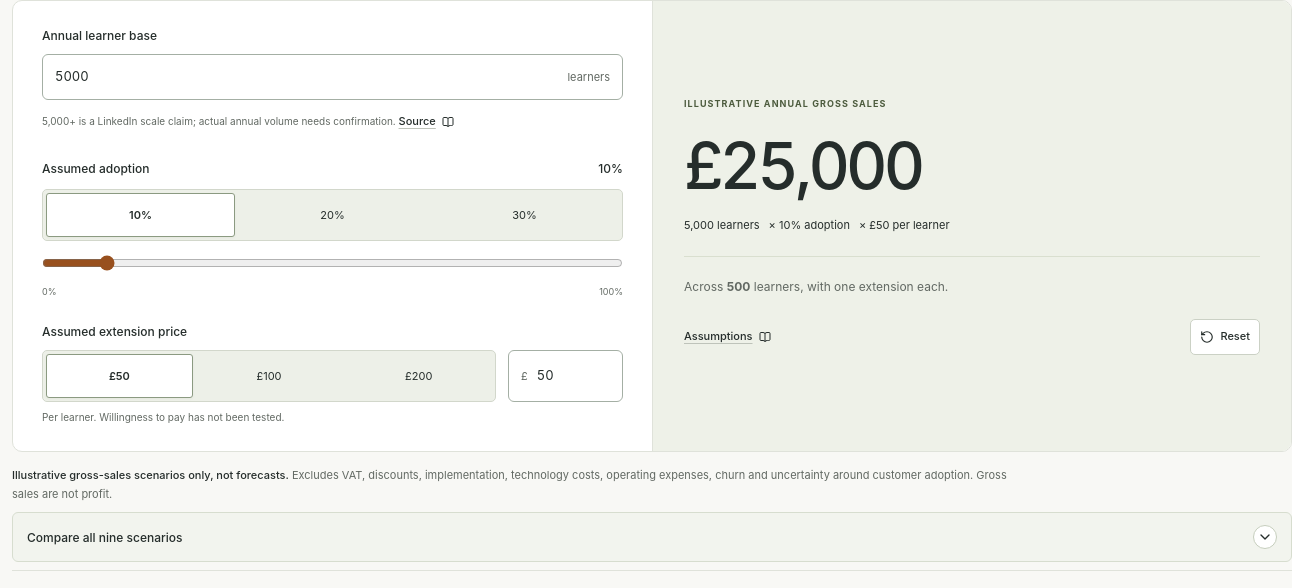
Test: validates custom annual inputs without showing stale results
Click the button "20%": (332, 215) [238,193,427,237]
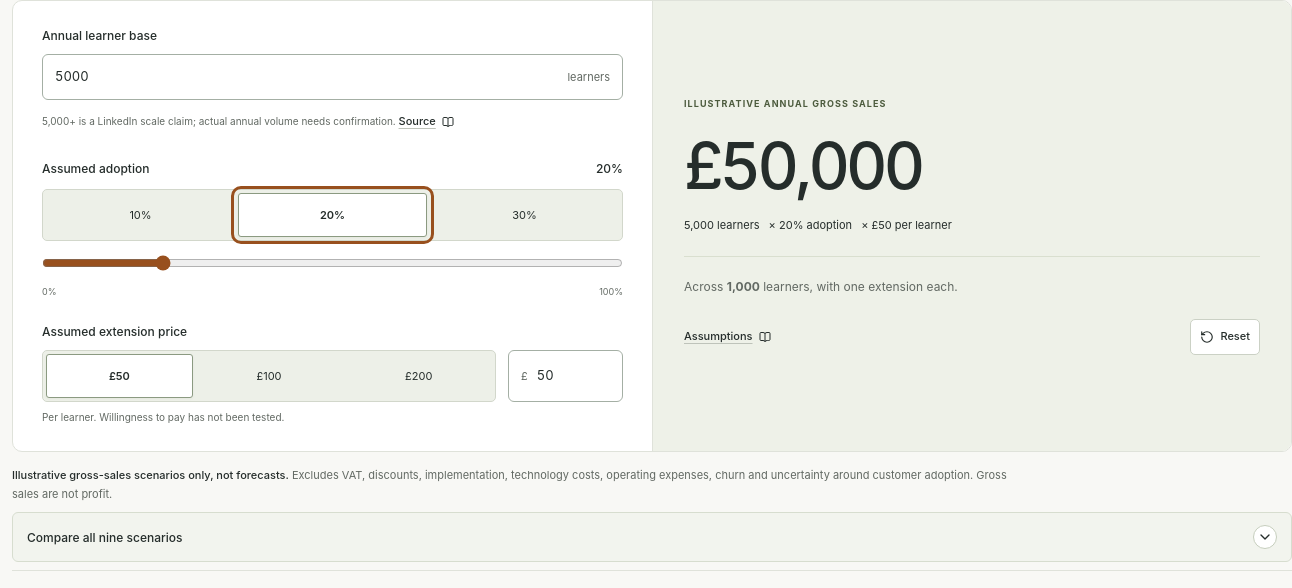
Click the button "£100": (269, 376) [196,354,342,398]
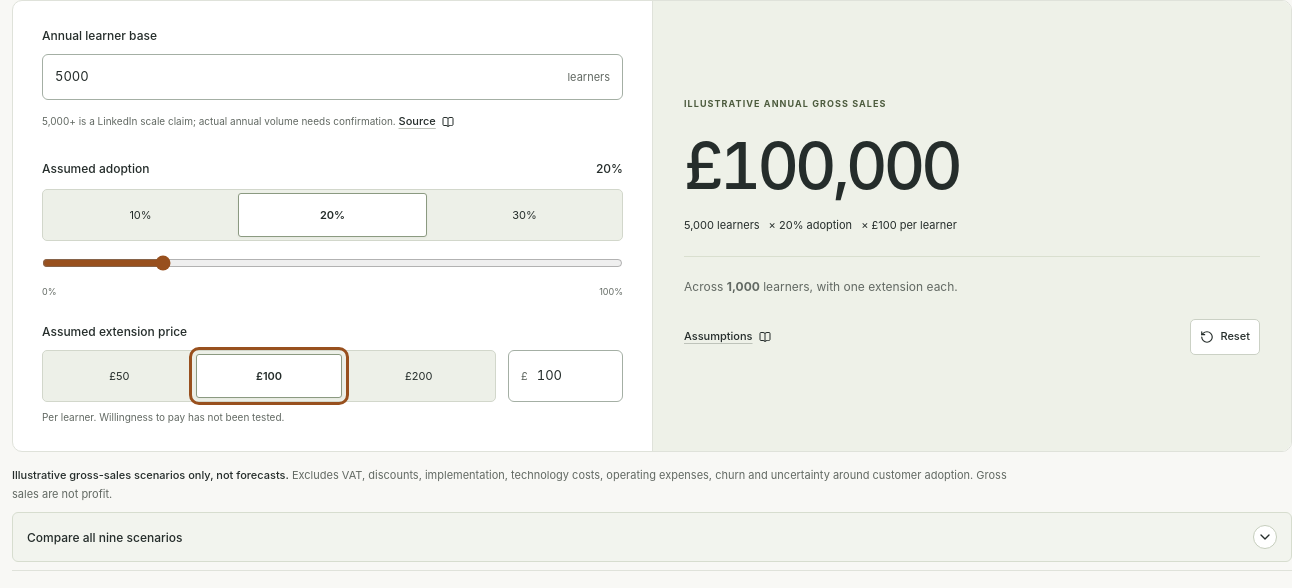
expect the text "£100,000" is shown: met, box [684,127,959,204]
Clear the number field labelled "Annual learner base": (307, 77) [55,59,558,94]
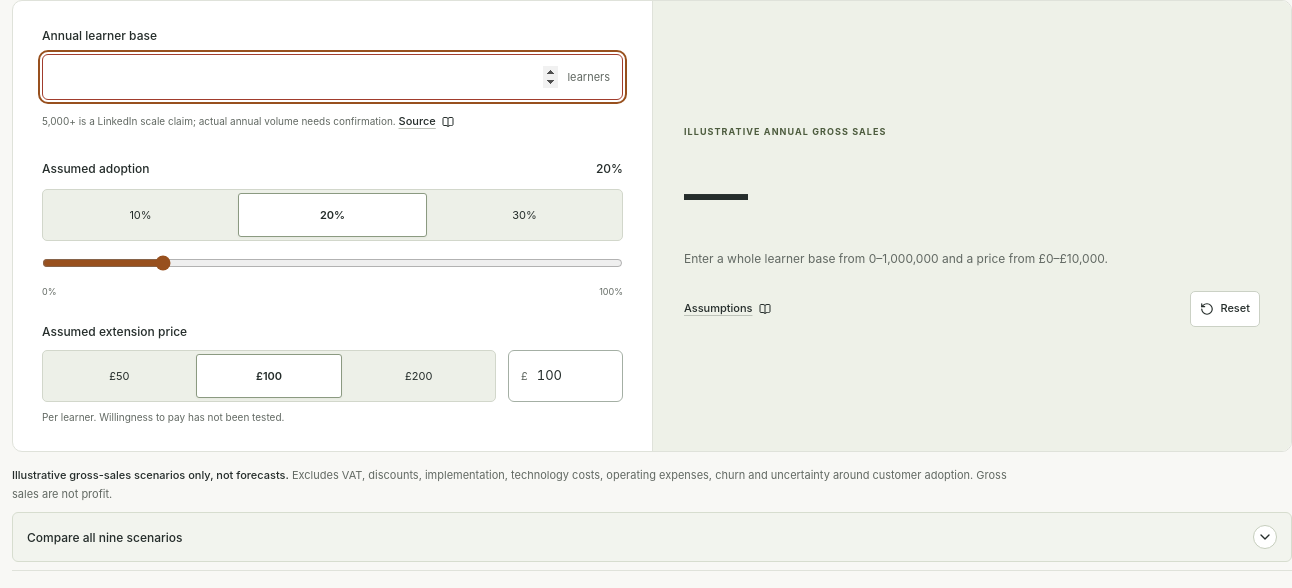
expect the message shows "Enter a whole learner base": met, box [684,251,1108,266]
expect the text "£100,000" is gone: met
Click the button "Reset": (1225, 309) [1190,291,1260,327]
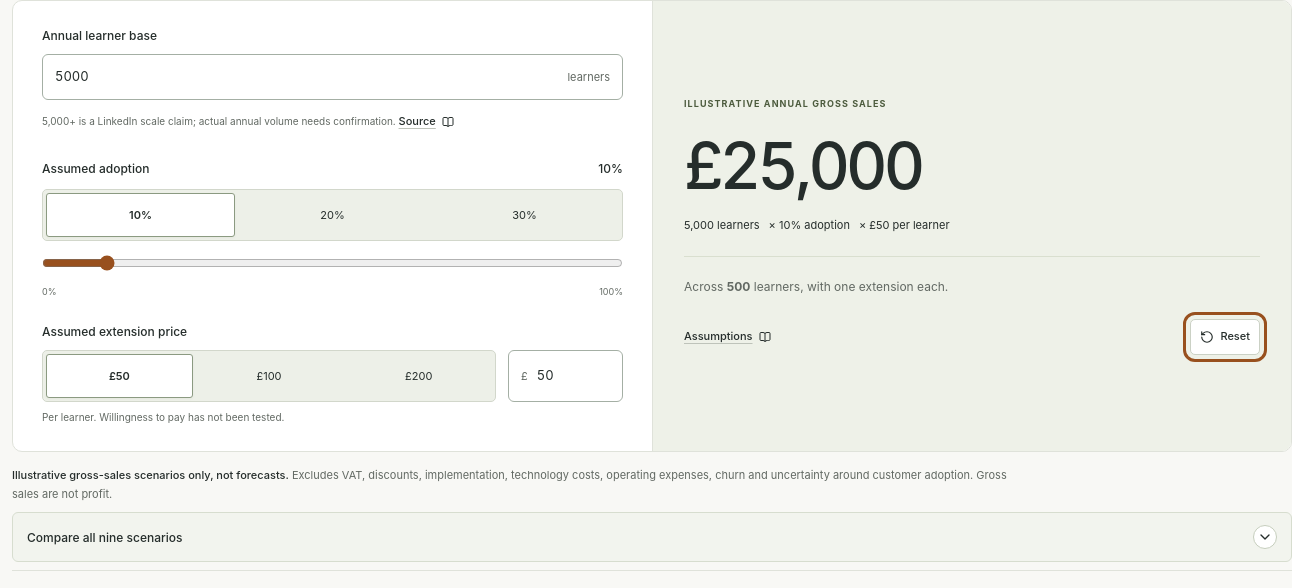
expect the text "£25,000" is shown: met, box [684,127,921,204]
